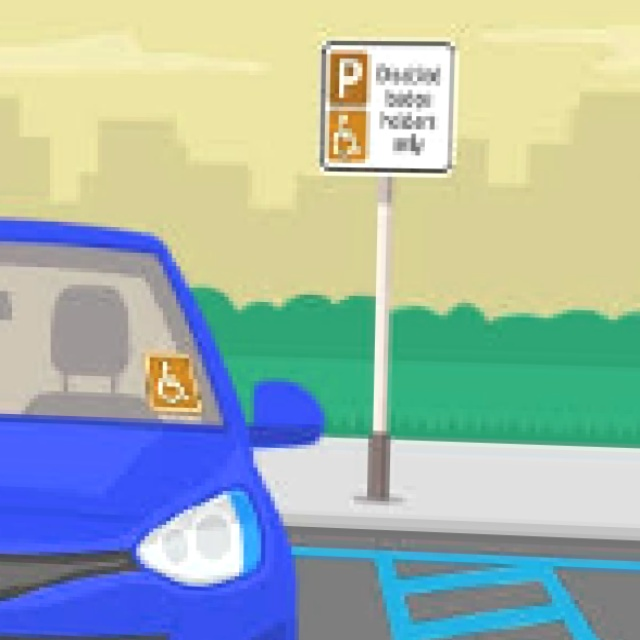ISA: (326, 109, 361, 157), (152, 359, 190, 402)
